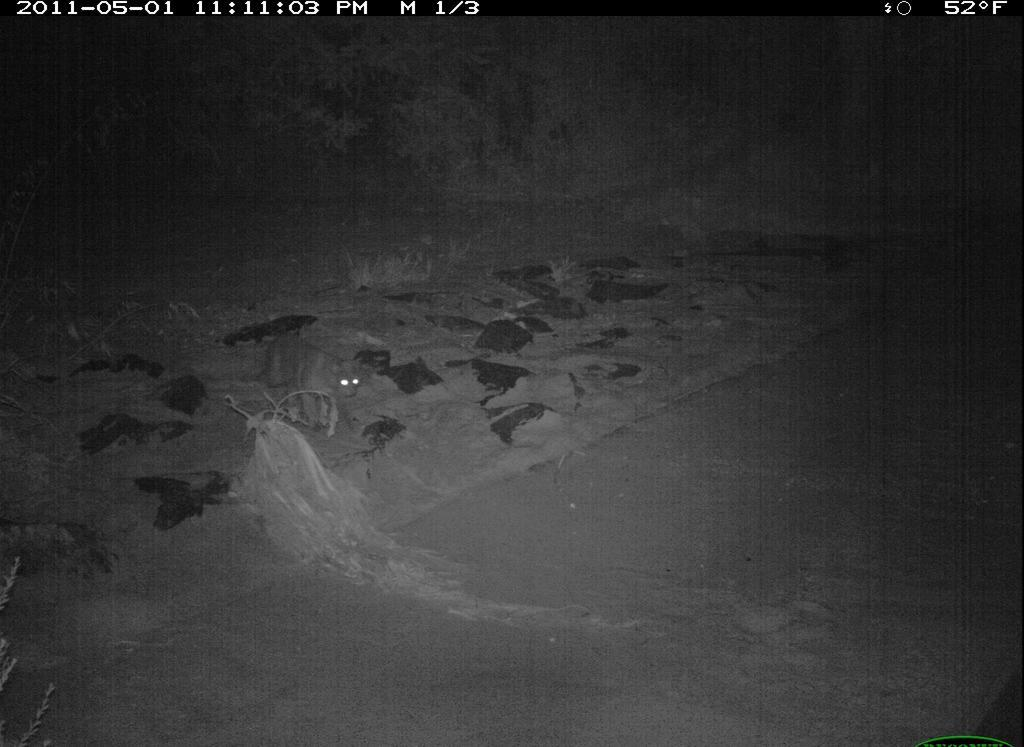cat: (236, 323, 376, 446)
